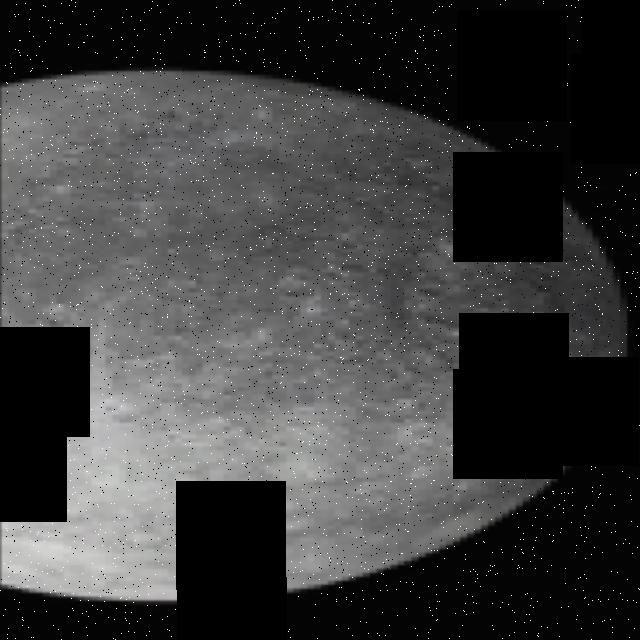Mercury: (0, 71, 619, 605)
